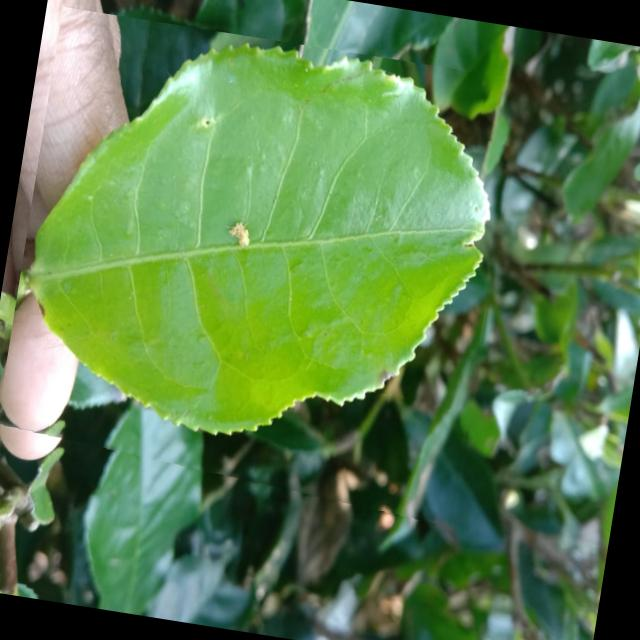Category B(2-4 days): (0, 6, 524, 527)
